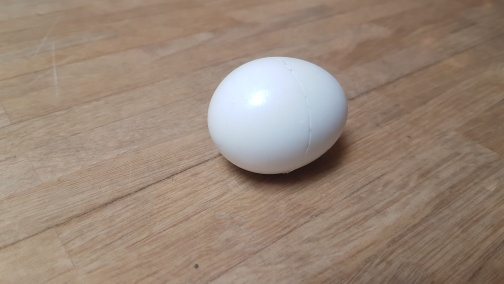egg: (205, 55, 350, 176)
